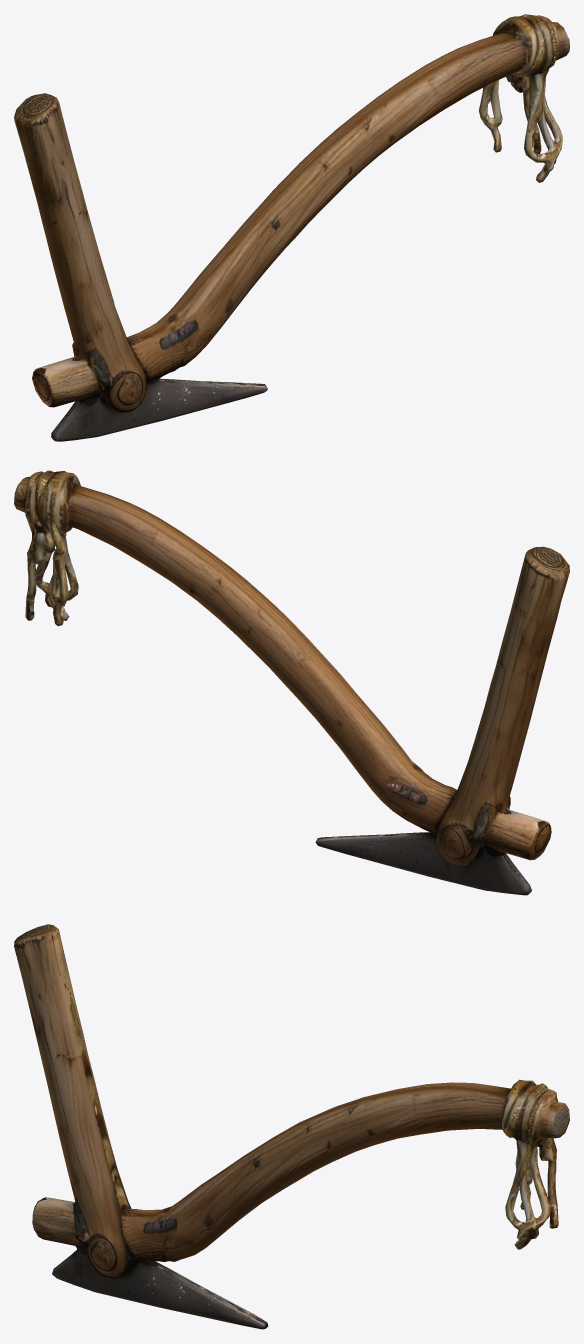
File: gourd-prop-plough.glb
3 renders of one model, top to bottom at view 1: azimuth 30°, elevation 25°; view 2: azimuth 150°, elevation 25°; view 3: azimuth 330°, elevation 25°, orthographic.
Visible parts, largest first — view 1: low; view 2: low; view 3: low.
Part boxes in pixels (x1,y1,x2,y2): low: (14,14,569,441); low: (14,470,569,895); low: (14,924,569,1329).
Size of the model in its own units: 0.0842 by 0.052 by 0.00998.
1 material, 1 textured.
